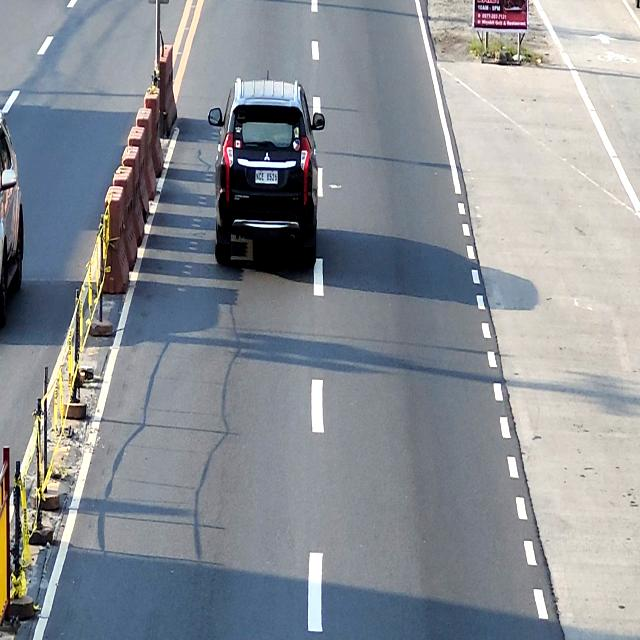Car: (208, 78, 326, 268), (0, 110, 23, 322)
License-Plate: (256, 169, 278, 186)
